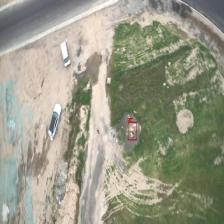fire: (128, 122, 137, 140)
